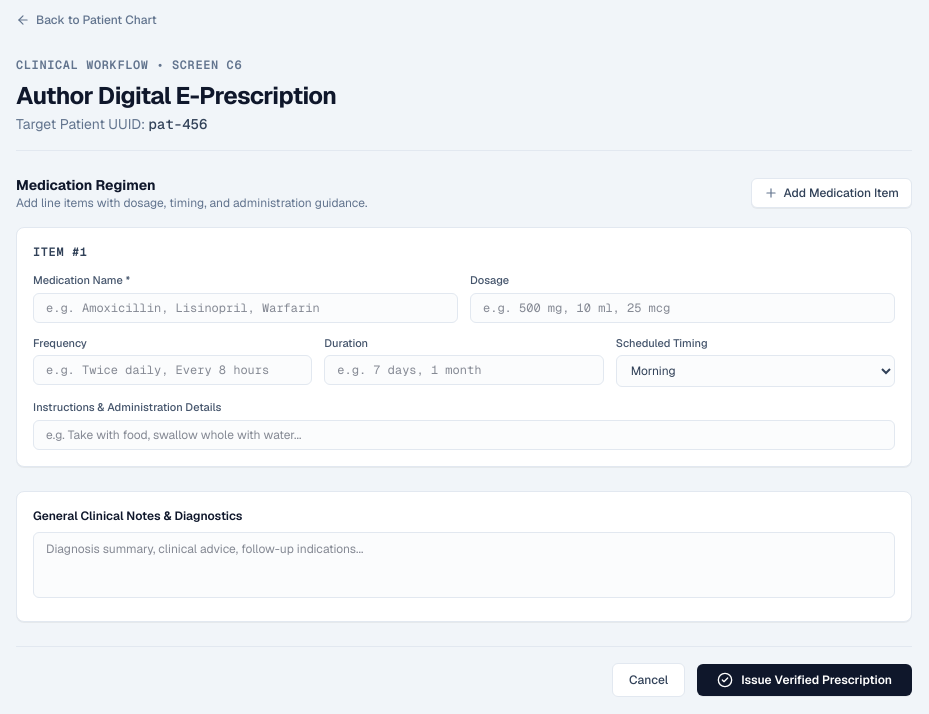
DigitalPrescribe Component (Screen C6) › completes 201 success flow and displays confirmation with PDF and verify links
Fill in required fields
Type "Atorvastatin" into the field with placeholder "e.g. Amoxicillin, Lisinopril, Warfarin" at {"x": 246, "y": 308}, box [33, 292, 458, 322]
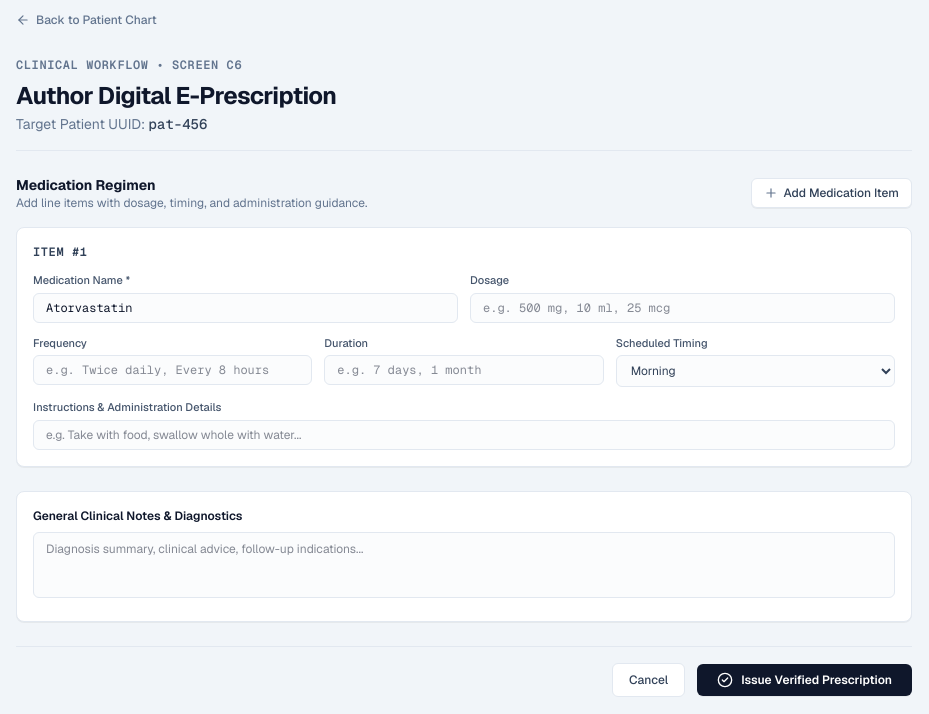
Type "20 mg" into the field with placeholder "e.g. 500 mg, 10 ml, 25 mcg" at {"x": 682, "y": 308}, box [470, 292, 895, 322]
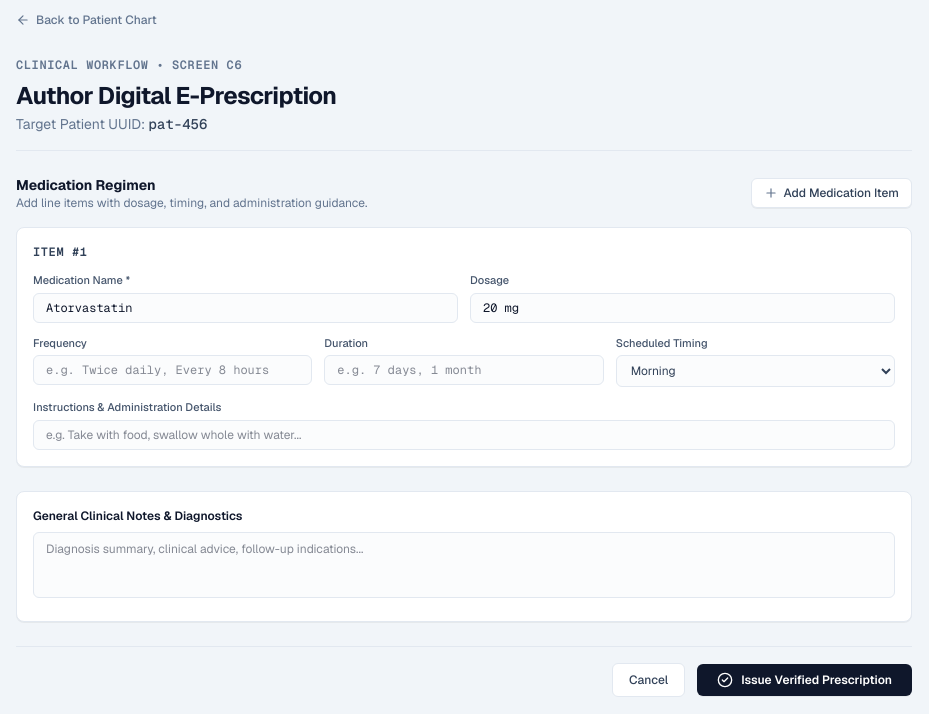
Type "Once daily" into the field with placeholder "e.g. Twice daily, Every 8 hours" at {"x": 173, "y": 370}, box [33, 355, 312, 385]
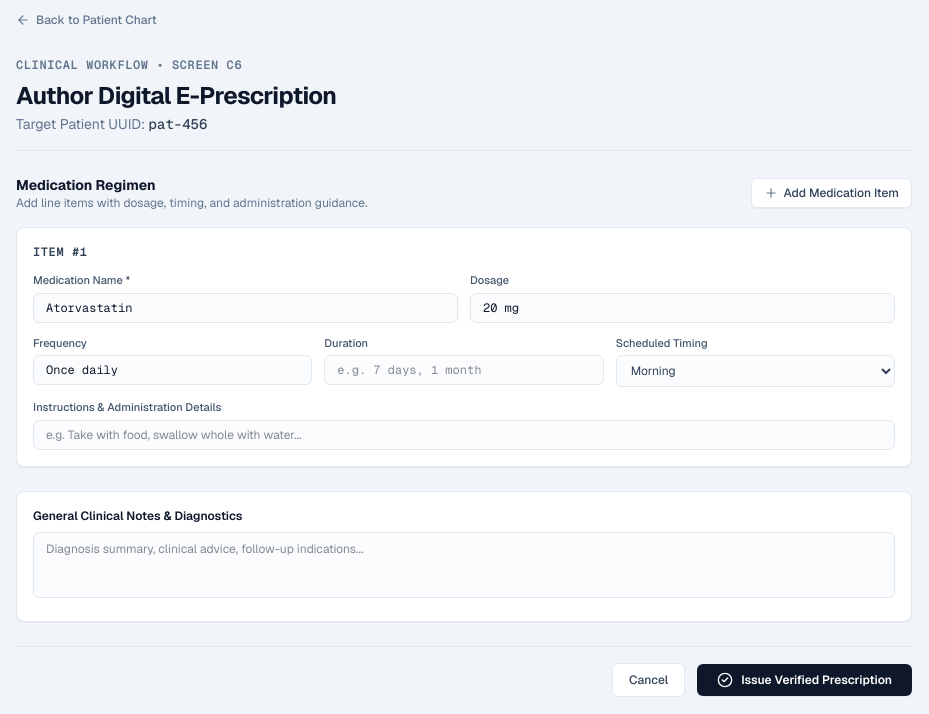
Type "30 days" into the field with placeholder "e.g. 7 days, 1 month" at {"x": 464, "y": 370}, box [324, 355, 604, 385]
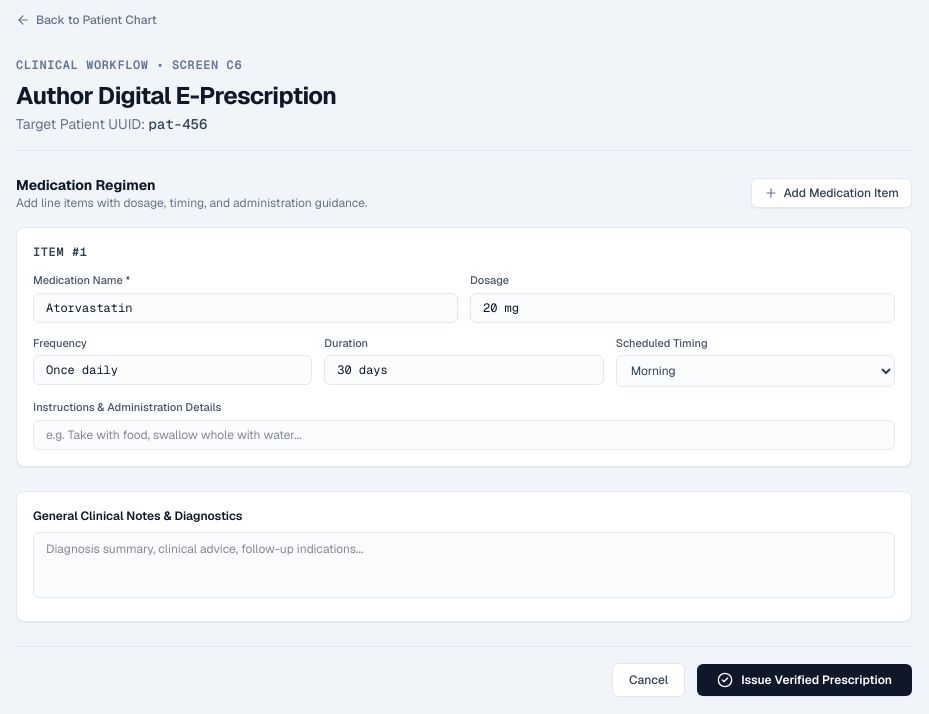
Click the button "Issue Verified Prescription" at {"x": 805, "y": 680}, box [697, 664, 912, 696]
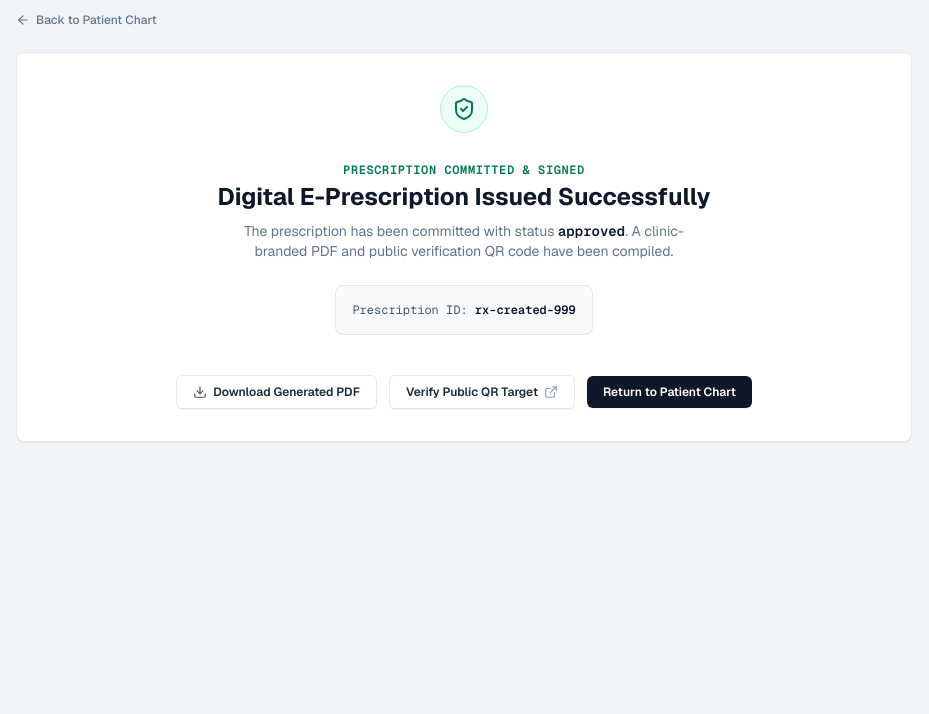
Result: the heading "Digital E-Prescription Issued Successfully" is shown at [217, 181, 711, 212]
Result: the text "rx-created-999" is shown at [475, 302, 576, 318]
Result: the button "Download Generated PDF" is shown at [176, 375, 377, 409]
